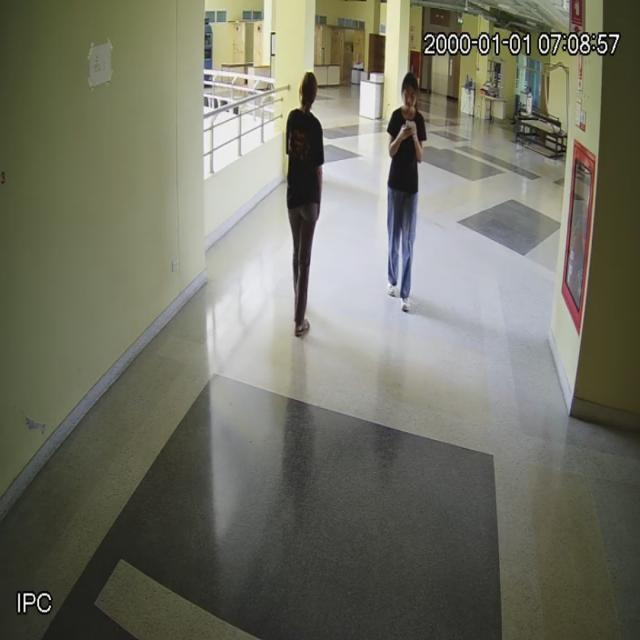normal: (383, 75, 431, 312), (287, 71, 327, 336)
